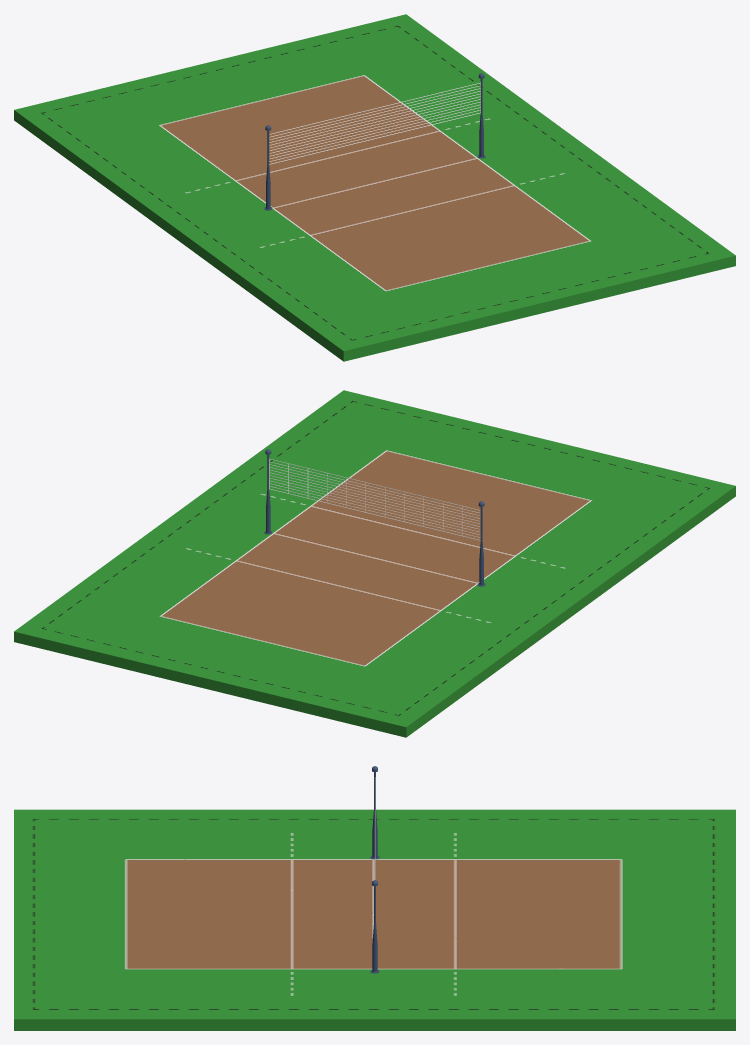
Rendered from volleyball.glb.
The picture shows the model from 3 angles, top to bottom: view 1: azimuth 30°, elevation 25°; view 2: azimuth 150°, elevation 25°; view 3: azimuth 270°, elevation 25°; orthographic projection. The views are drawn at different scales.
Visible parts, largest first — view 1: Plane_2; view 2: Plane_2; view 3: Plane_2.
Boxes of the visible parts, x1,y1,x2,y2 form: Plane_2: (14,14,735,361); Plane_2: (14,390,735,737); Plane_2: (14,766,735,1030).
Size of the model in its own units: 11.46 by 2.61 by 16.69.
3 materials, 1 textured.
